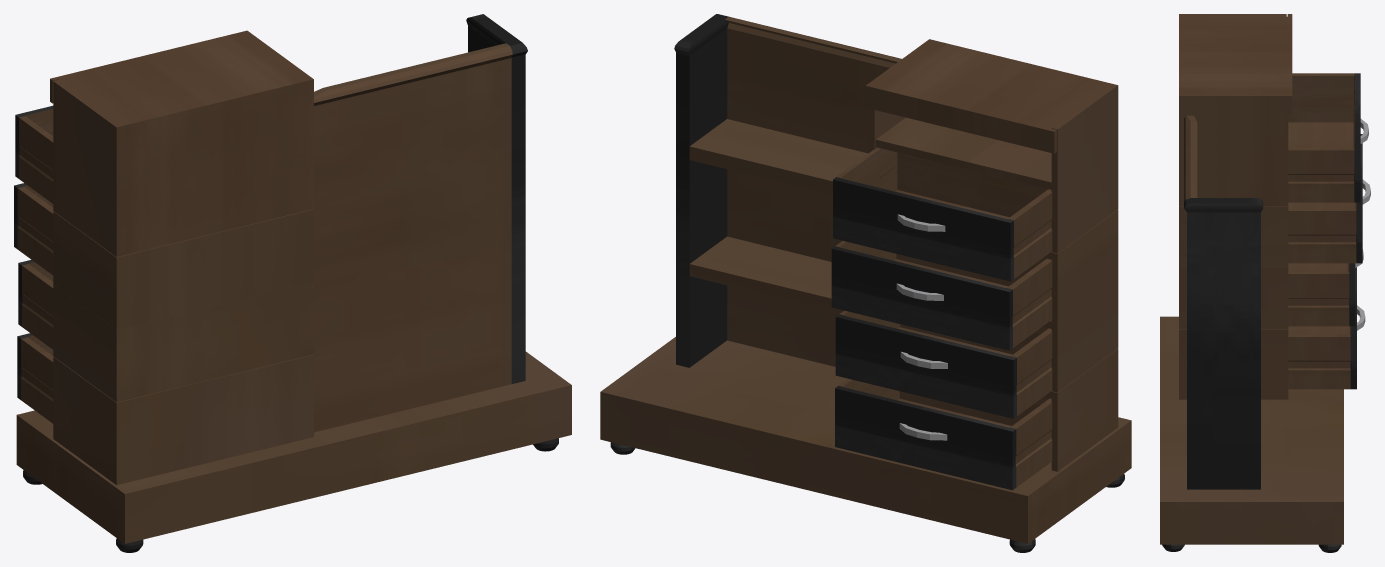
File: Dresser.fbx
3 views of the same model, side by side, from view 1: azimuth 30°, elevation 25°; view 2: azimuth 150°, elevation 25°; view 3: azimuth 270°, elevation 25° (orthographic). The views are drawn at different scales.
Visible parts, largest first — view 1: Cube, Cube.001, Gaveta, Gaveta.001, Gaveta.003, Gaveta.002; view 2: Cube, Cube.001, Gaveta, Gaveta.003, Gaveta.001, Gaveta.002; view 3: Cube, Cube.001, Gaveta, Gaveta.001, Gaveta.003, Gaveta.002, Cylinder.
Boxes of the visible parts, left/top/right/bottom form: Cube: left=16, top=14, right=571, bottom=543; Cube.001: left=50, top=30, right=313, bottom=485; Gaveta: left=15, top=105, right=53, bottom=203; Gaveta.001: left=14, top=183, right=53, bottom=275; Gaveta.003: left=17, top=333, right=53, bottom=423; Gaveta.002: left=18, top=259, right=53, bottom=349; Cube: left=600, top=14, right=1131, bottom=543; Cube.001: left=865, top=39, right=1118, bottom=471; Gaveta: left=833, top=147, right=1052, bottom=281; Gaveta.003: left=835, top=378, right=1052, bottom=490; Gaveta.001: left=831, top=241, right=1052, bottom=350; Gaveta.002: left=835, top=310, right=1052, bottom=418; Cube: left=1160, top=115, right=1343, bottom=544; Cube.001: left=1179, top=14, right=1292, bottom=399; Gaveta: left=1288, top=73, right=1368, bottom=202; Gaveta.001: left=1288, top=134, right=1370, bottom=263; Gaveta.003: left=1288, top=267, right=1365, bottom=389; Gaveta.002: left=1288, top=249, right=1363, bottom=326; Cylinder: left=1162, top=544, right=1341, bottom=552.
Bounding box in the file's own units: 17.78 × 16.02 × 8.55.
Materials: 8 (8 with a texture image).
